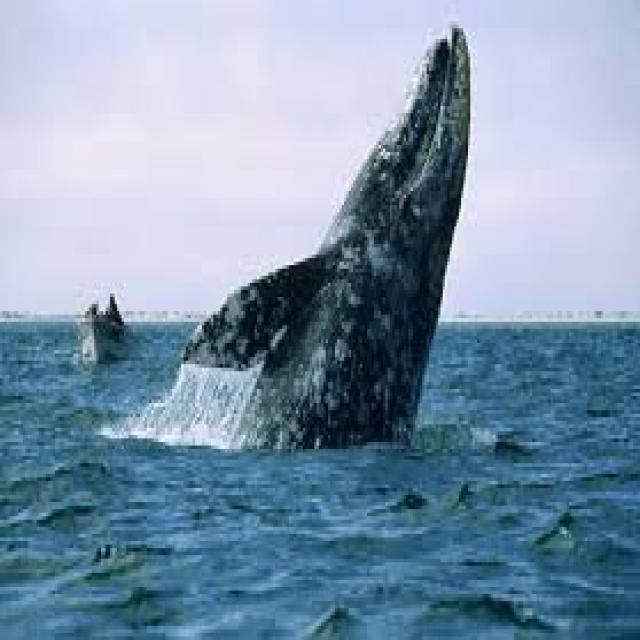whale: (126, 21, 475, 453), (83, 297, 124, 361)
